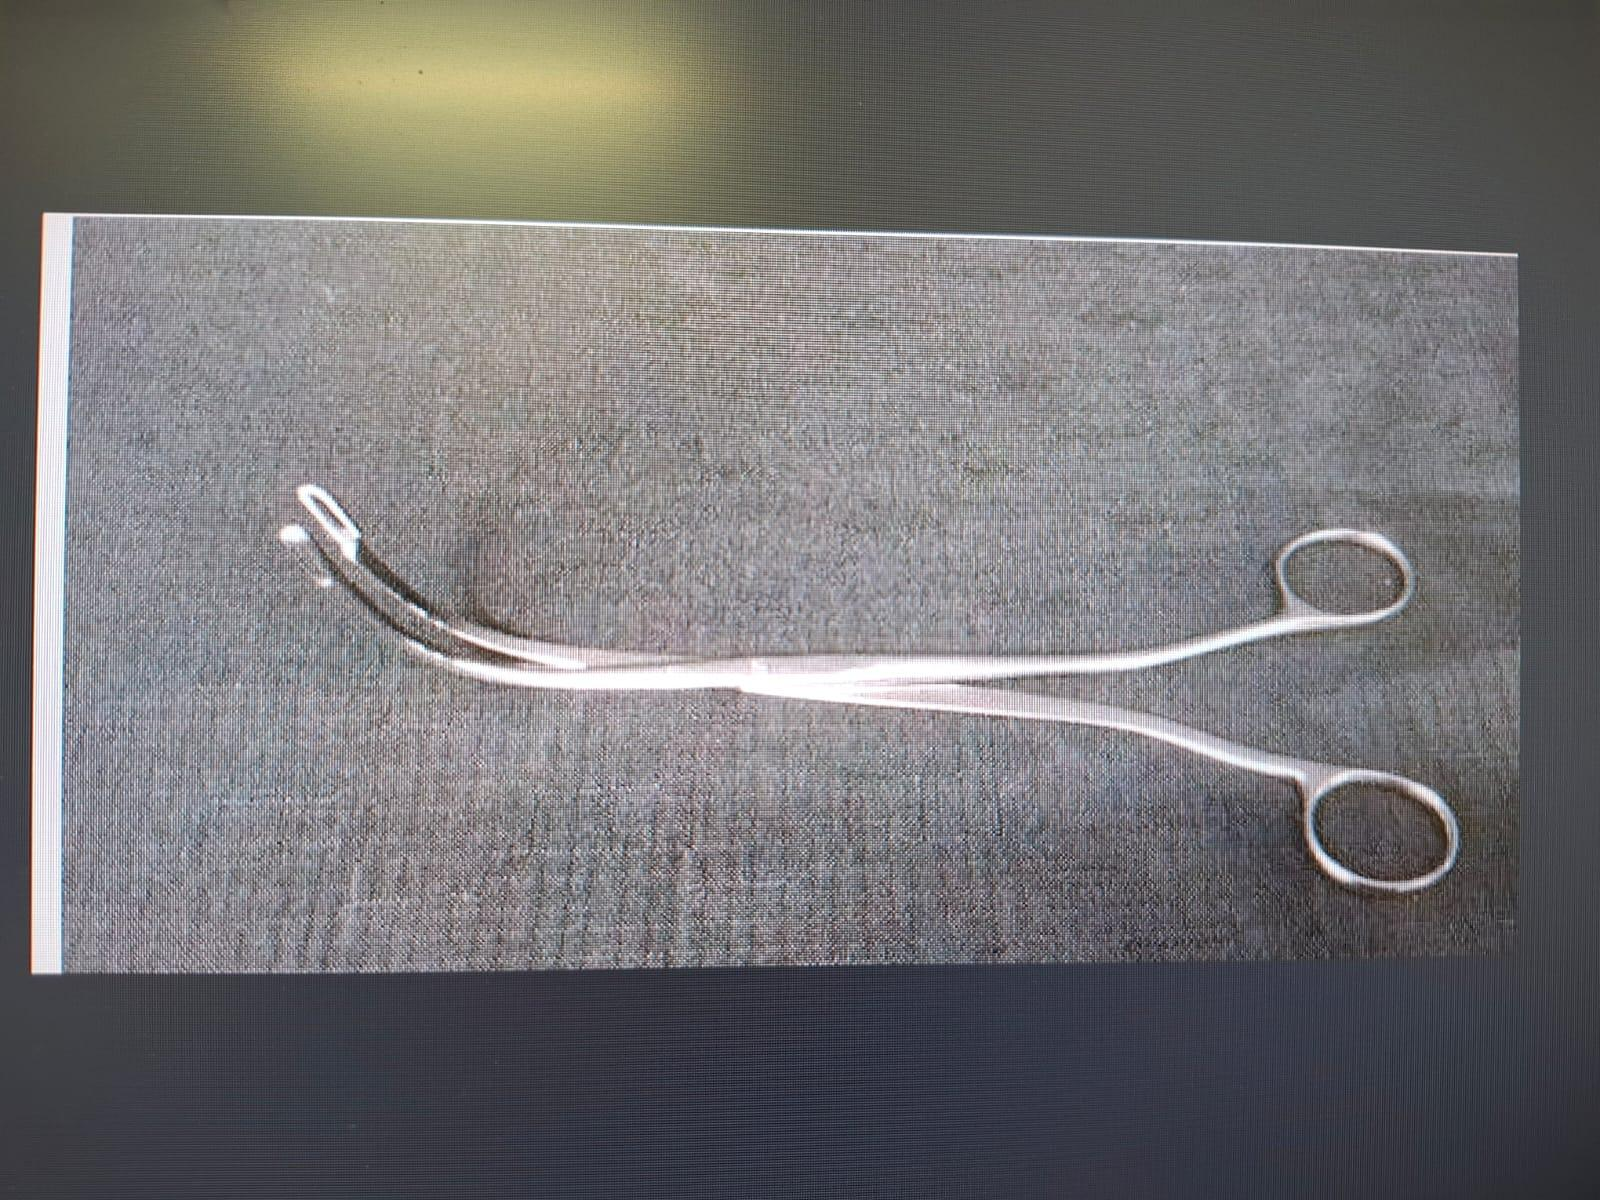Randall Forceps: (273, 450, 1470, 897)
